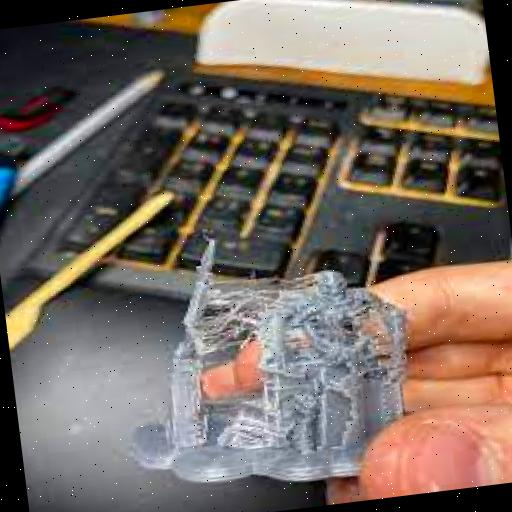spaghetti: (143, 231, 441, 404)
